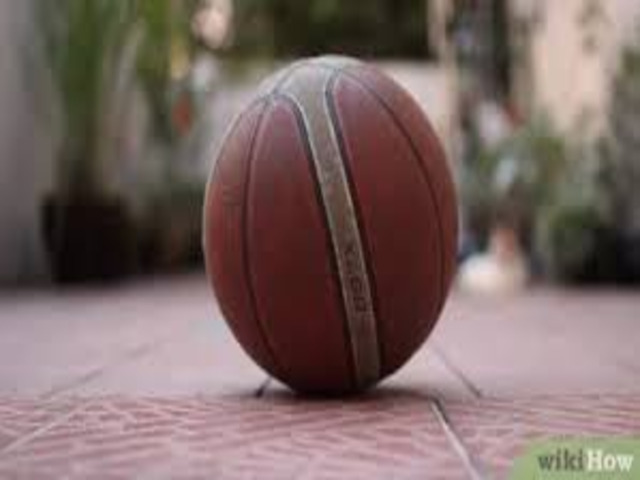Bola: (198, 51, 464, 403)
